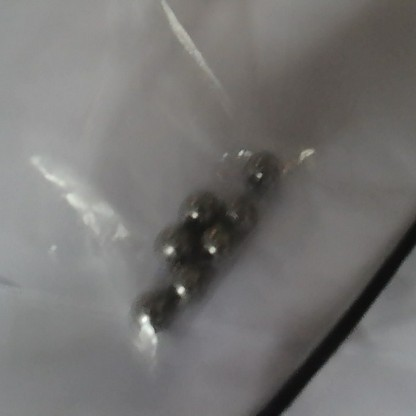ironball: (127, 290, 174, 343), (242, 149, 285, 195), (153, 224, 200, 265), (218, 195, 263, 235), (162, 260, 206, 299), (196, 224, 238, 264), (180, 190, 223, 229)
